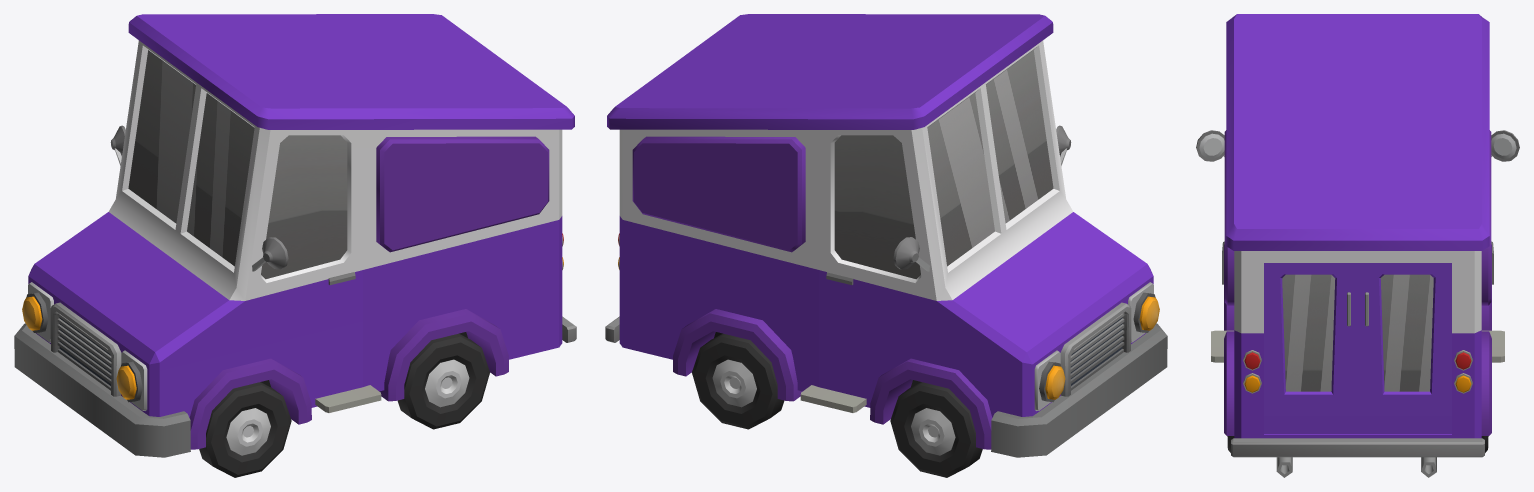
The model's file is Car_15_I.gltf.
3 renders of one model, left to right at view 1: azimuth 30°, elevation 25°; view 2: azimuth 150°, elevation 25°; view 3: azimuth 270°, elevation 25°, orthographic. The views are drawn at different scales.
Parts seen in each view (by area): view 1: Car_15_I, RL, FL; view 2: Car_15_I, RR, FR; view 3: Car_15_I.
Part boxes in pixels (x1,y1,x2,y2): Car_15_I: (14, 14, 576, 457); RL: (397, 333, 489, 429); FL: (199, 382, 291, 477); Car_15_I: (605, 14, 1167, 457); RR: (692, 333, 784, 429); FR: (890, 382, 982, 477); Car_15_I: (1196, 14, 1519, 477).
Size of the model in its own units: 2.75 by 2.13 by 1.8.
Materials: 4 (4 with a texture image).
